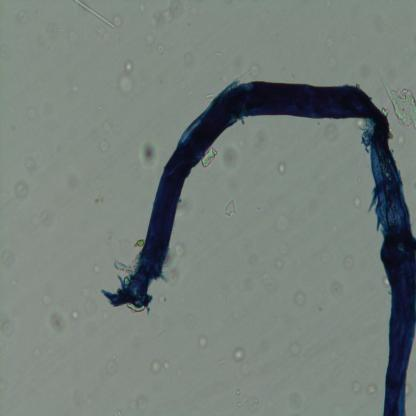Background material: (377, 72, 416, 130), (32, 18, 66, 48), (148, 2, 184, 27), (262, 209, 292, 236), (138, 139, 160, 171), (117, 59, 136, 95), (221, 146, 242, 172), (124, 392, 152, 411), (228, 342, 247, 366), (102, 352, 118, 378), (99, 119, 123, 135), (84, 284, 96, 316), (149, 357, 170, 375), (164, 266, 180, 289), (323, 121, 340, 142), (51, 311, 66, 334), (201, 146, 216, 167), (292, 289, 306, 310), (177, 201, 193, 219), (14, 181, 30, 199), (223, 198, 237, 218), (172, 241, 186, 258), (364, 381, 378, 396), (97, 138, 111, 153), (349, 379, 362, 395), (277, 157, 287, 177), (331, 280, 342, 298), (182, 51, 195, 66), (342, 255, 354, 271), (272, 256, 284, 270), (132, 237, 146, 249), (288, 342, 300, 356), (69, 308, 81, 322), (198, 334, 208, 350), (93, 190, 104, 204), (144, 34, 156, 46), (352, 195, 362, 209), (112, 16, 122, 29), (156, 43, 166, 56), (94, 264, 101, 276)
Cotton: (101, 75, 416, 416)
Glass filter fibre: (74, 0, 114, 28), (233, 66, 258, 80), (204, 92, 214, 99)
